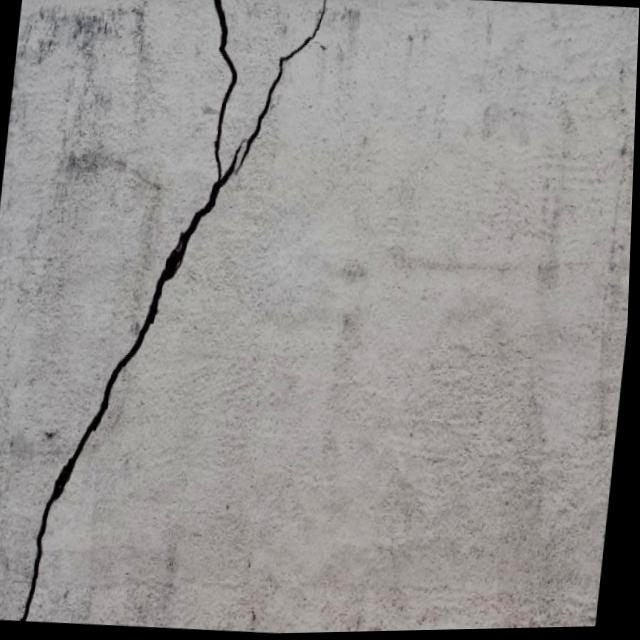Crack: (15, 0, 343, 638)
